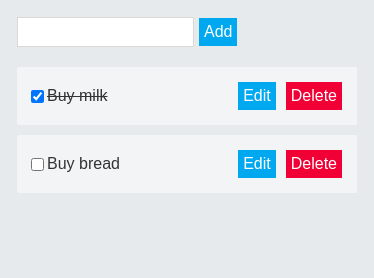
TodoApp › adds buy tomato
Step 1. Type "Buy tomato" into the field with test id "add-input" → (106, 32), box [17,17,194,47]
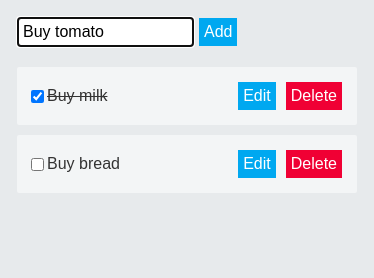
Step 2. Click the button with test id "add-button" → (218, 32), box [199,18,238,46]
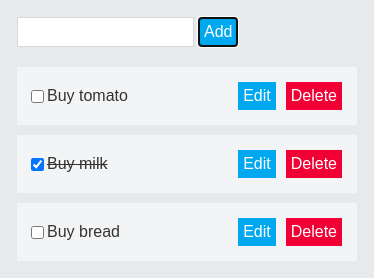
Now the text "Buy tomato" is shown, box [47,87,128,104]
Now the checkbox with test id "toggle2" is not checked, box [31,226,44,238]
